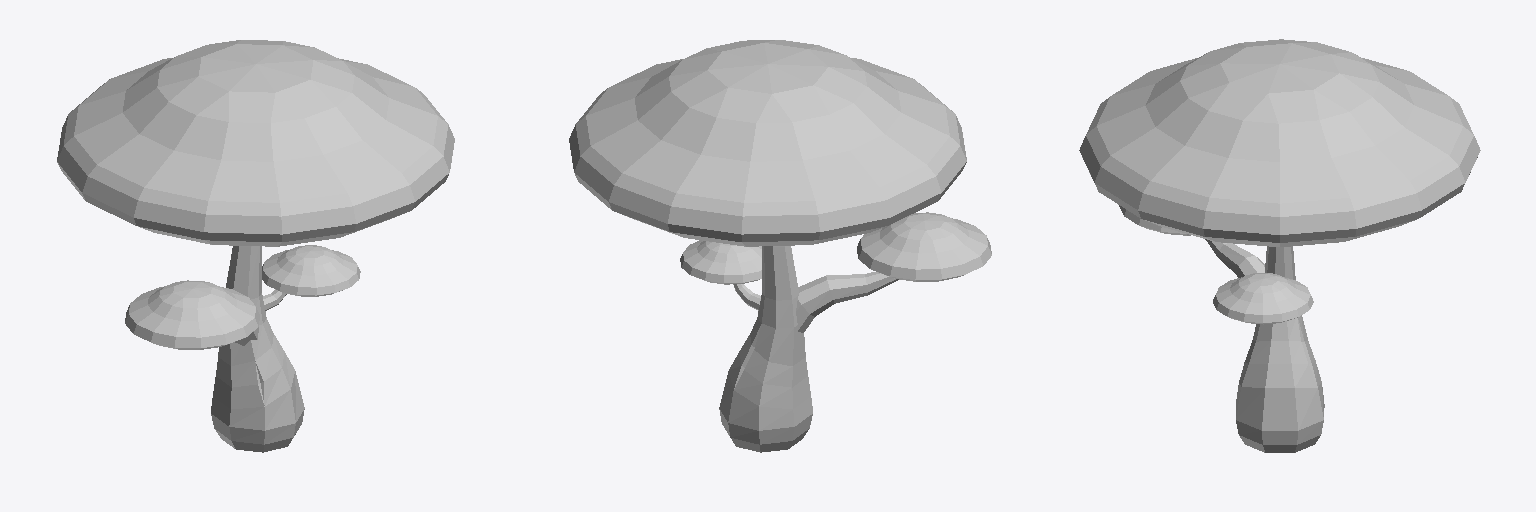
Rendered from Tree_3_B_Color1.obj.
The picture shows the model from 3 angles: view 1: azimuth 30°, elevation 25°; view 2: azimuth 150°, elevation 25°; view 3: azimuth 270°, elevation 25°; orthographic projection.
Parts seen in each view (by area): view 1: Tree_3_B_Color1; view 2: Tree_3_B_Color1; view 3: Tree_3_B_Color1.
Part boxes in pixels (x1,y1,x2,y2): Tree_3_B_Color1: (57,40,454,452); Tree_3_B_Color1: (569,40,991,452); Tree_3_B_Color1: (1079,39,1480,452).
Bounding box in the file's own units: 4.13 × 4.35 × 4.13.